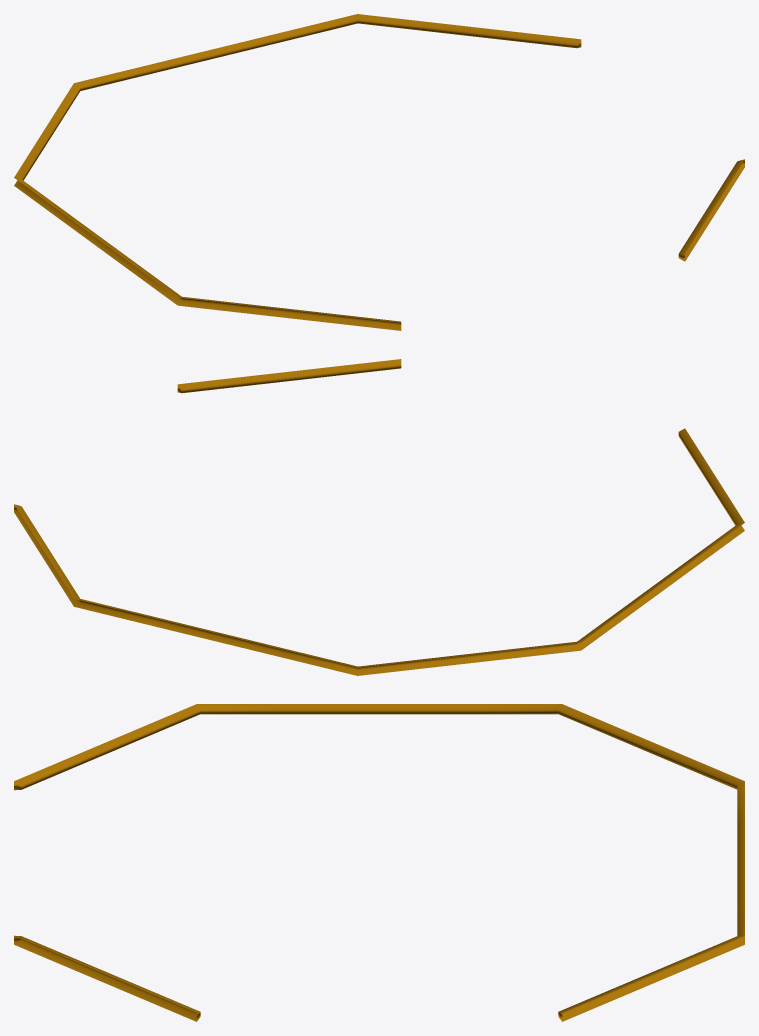
Rendered from Room_Lights.fbx.
3 views of the same model, one above another, from view 1: azimuth 30°, elevation 25°; view 2: azimuth 150°, elevation 25°; view 3: azimuth 270°, elevation 25° (orthographic). The views are drawn at different scales.
Parts seen in each view (by area): view 1: Lights_1; view 2: Lights_1; view 3: Lights_1.
Boxes of the visible parts, <box> form: Lights_1: <box>14,14,744,330</box>; Lights_1: <box>14,359,744,675</box>; Lights_1: <box>14,704,744,1021</box>.
Size of the model in its own units: 0.0802 by 0.00109 by 0.0802.
